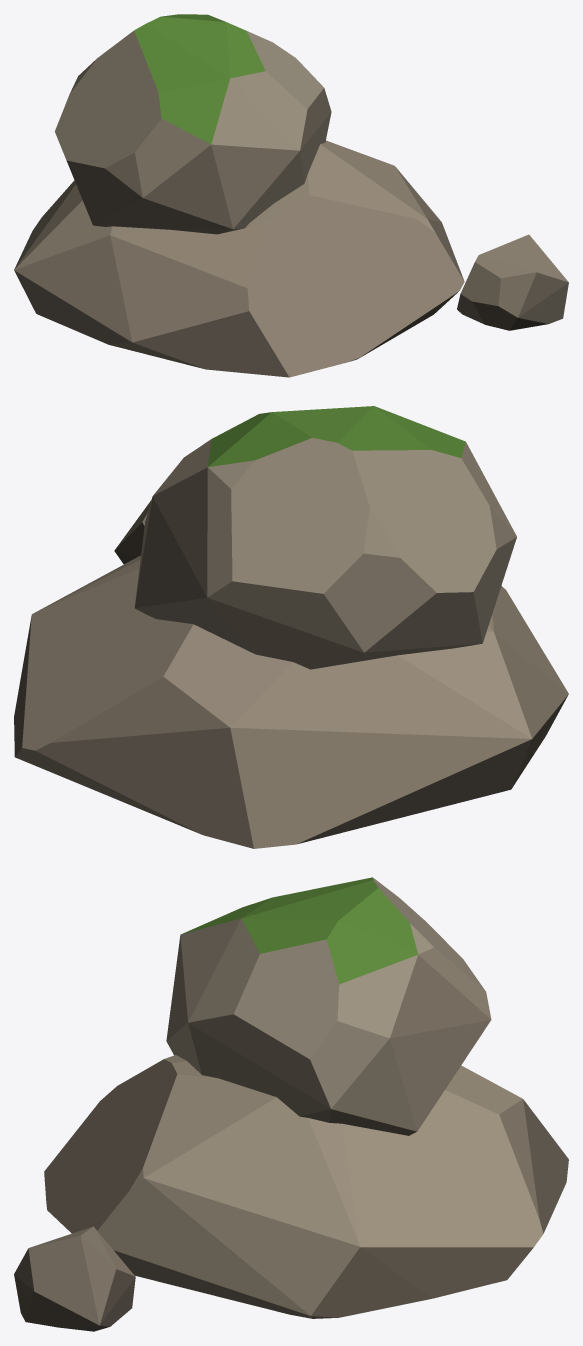
File: rock_b.fbx
3 renders of one model, top to bottom at view 1: azimuth 30°, elevation 25°; view 2: azimuth 150°, elevation 25°; view 3: azimuth 270°, elevation 25°, orthographic. The views are drawn at different scales.
Parts seen in each view (by area): view 1: rock_b; view 2: rock_b; view 3: rock_b.
Boxes of the visible parts, x1,y1,x2,y2 form: rock_b: (14,14,568,377); rock_b: (14,406,568,848); rock_b: (14,877,568,1331).
Size of the model in its own units: 4.24 by 2.35 by 4.05.
